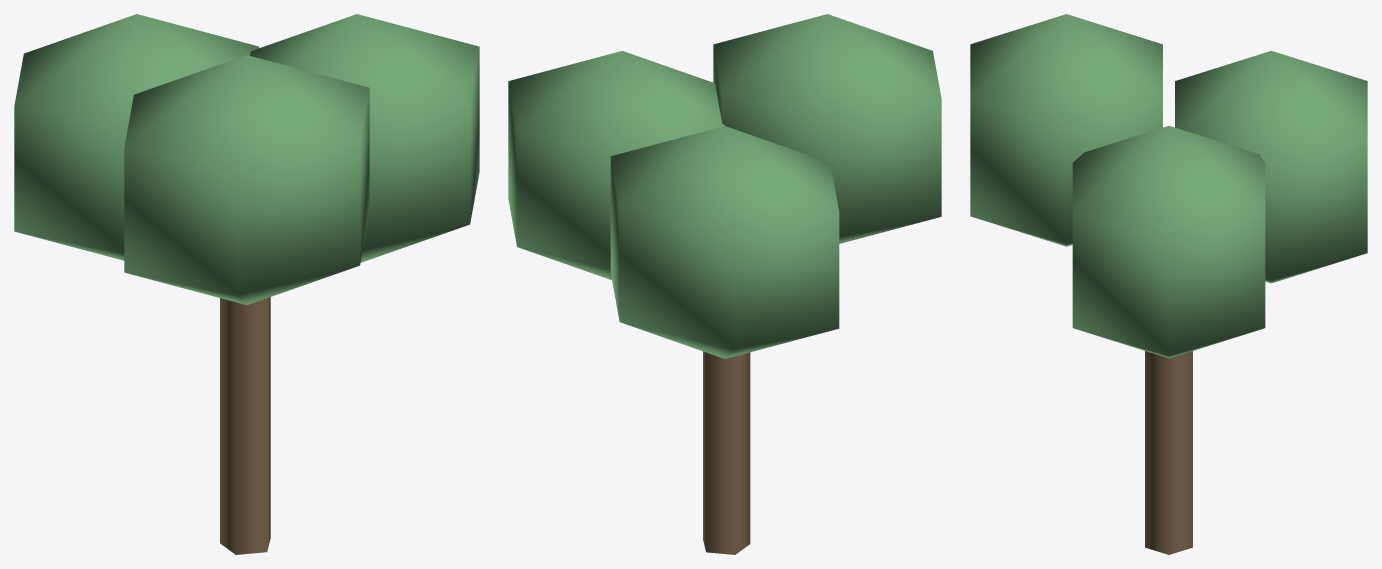
File: far.glb
The picture shows the model from 3 angles, left to right: view 1: azimuth 30°, elevation 25°; view 2: azimuth 150°, elevation 25°; view 3: azimuth 270°, elevation 25°; orthographic projection. The views are drawn at different scales.
Visible parts, largest first — view 1: EnvironmentAsset; view 2: EnvironmentAsset; view 3: EnvironmentAsset.
Boxes of the visible parts, <box> form: EnvironmentAsset: <box>14,14,479,554</box>; EnvironmentAsset: <box>508,14,941,554</box>; EnvironmentAsset: <box>970,14,1367,554</box>.
Size of the model in its own units: 1.3 by 1.65 by 1.18.
